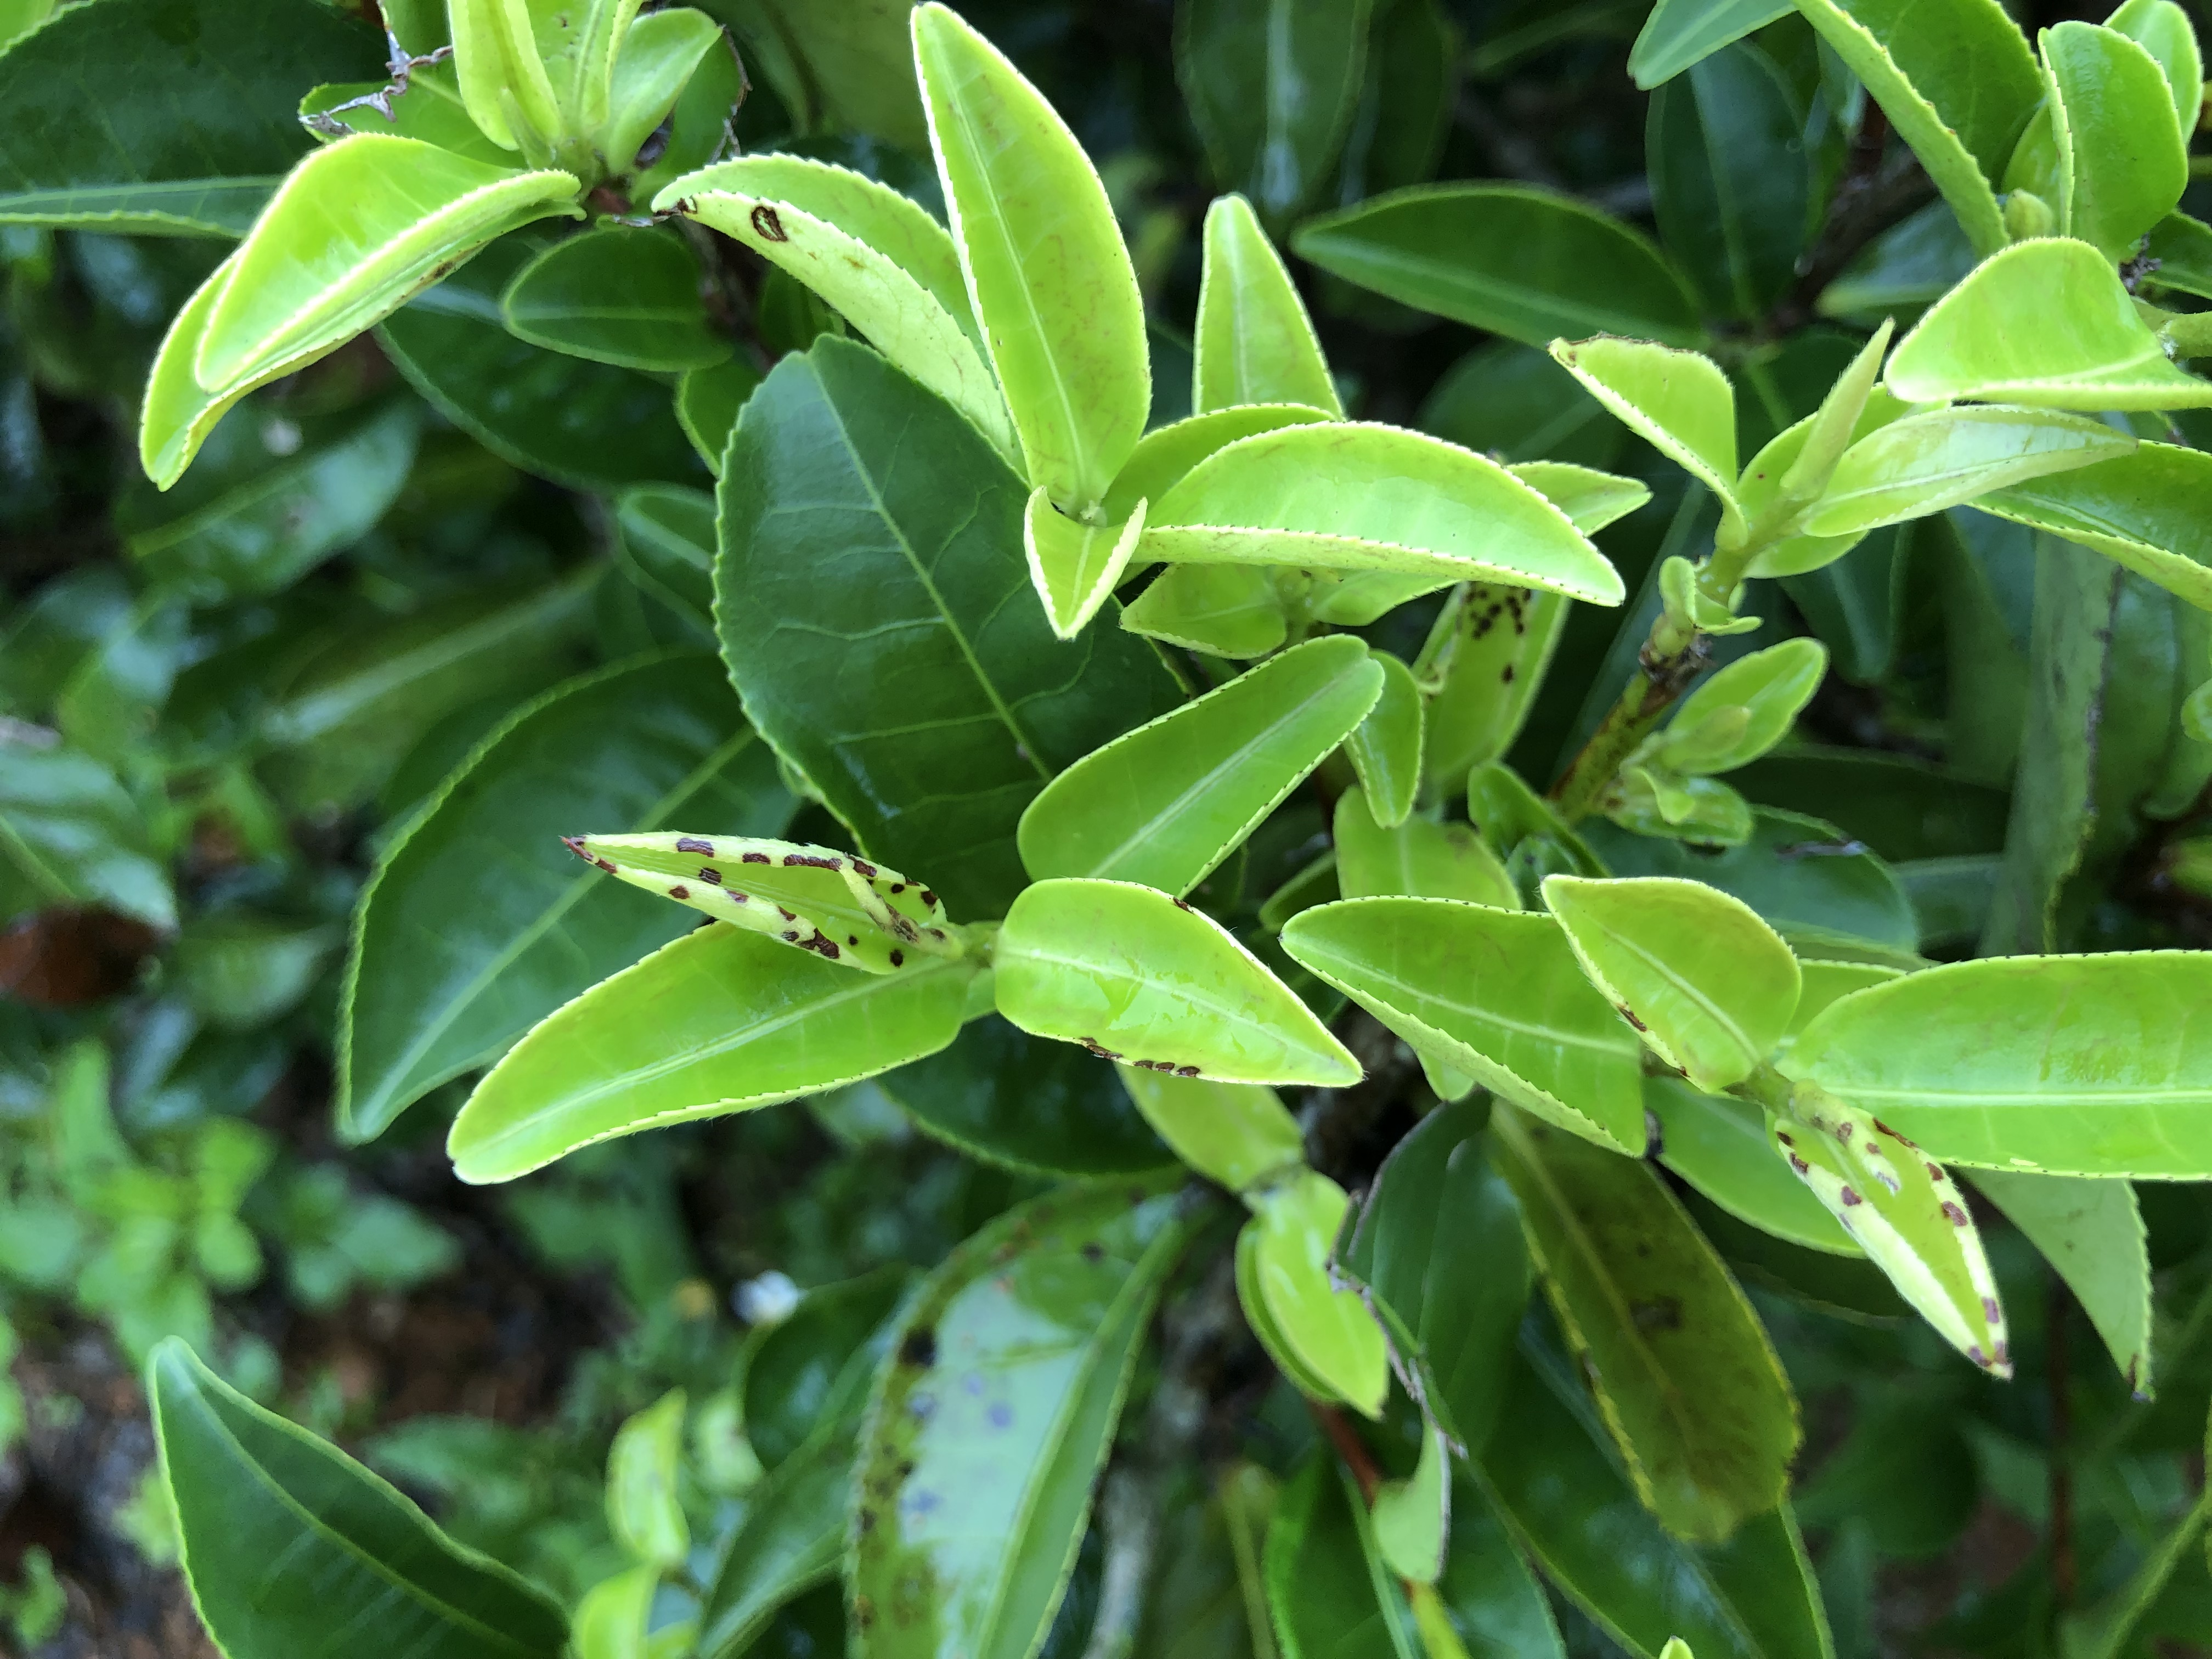formosa: (907, 0, 1153, 516), (986, 875, 1378, 1089)
mosquito_early: (559, 823, 951, 981), (1425, 568, 1564, 795)
mosquito_late: (1771, 1091, 2019, 1382), (556, 823, 948, 979), (1402, 568, 1564, 793)
tortrix: (667, 164, 1040, 455)
